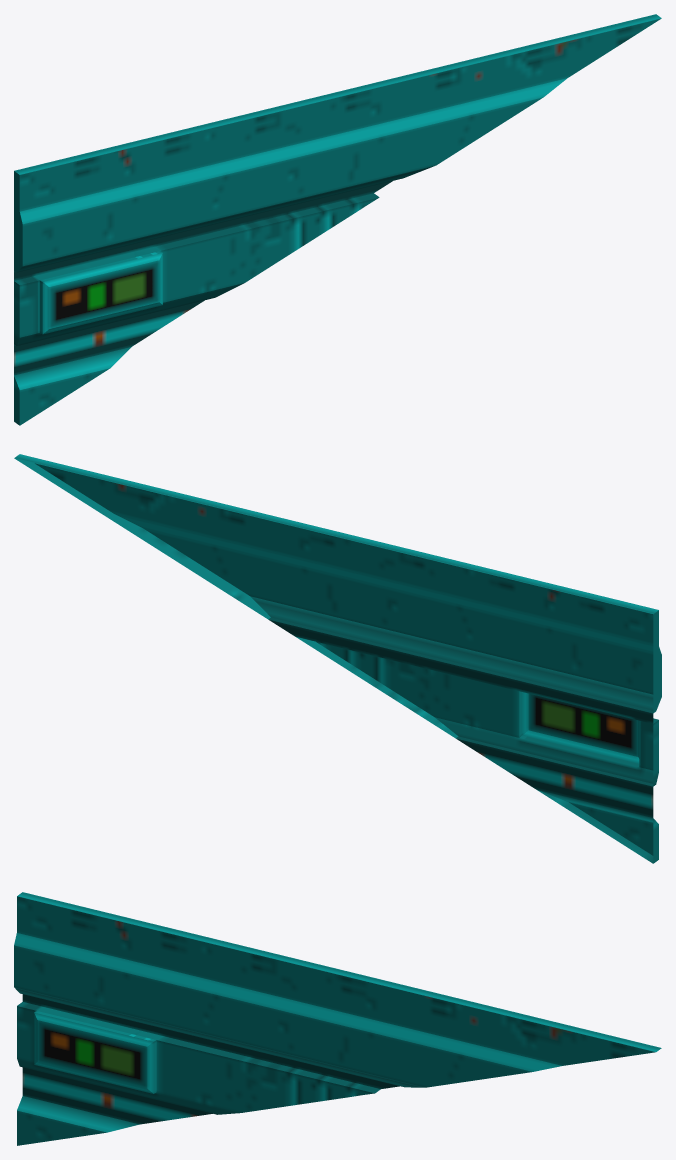
Rendered from med2_1_slice32RH.fbx.
The picture shows the model from 3 angles, top to bottom: view 1: azimuth 30°, elevation 25°; view 2: azimuth 150°, elevation 25°; view 3: azimuth 330°, elevation 25°; orthographic projection.
Parts seen in each view (by area): view 1: med2_1_mesh; view 2: med2_1_mesh; view 3: med2_1_mesh.
Part boxes in pixels (box(x1,y1,x2,y2)): med2_1_mesh: box(14, 14, 661, 425); med2_1_mesh: box(14, 454, 661, 863); med2_1_mesh: box(14, 892, 661, 1145).
Size of the model in its own units: 256 by 95.52 by 7.
